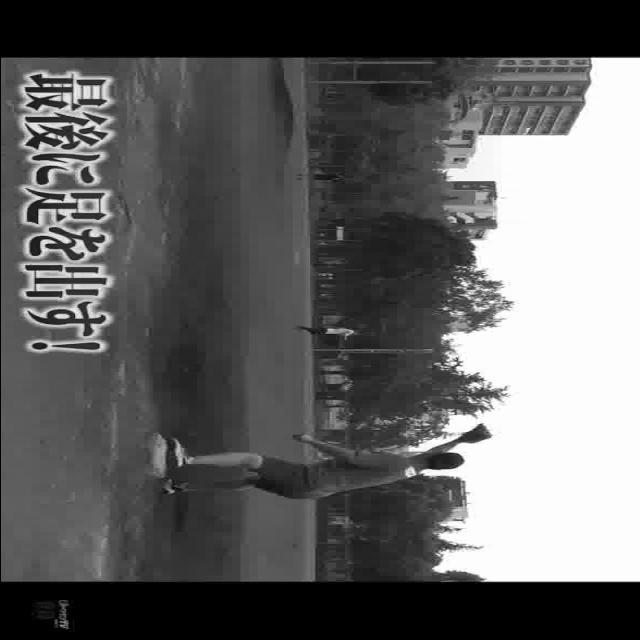base: (146, 430, 166, 478)
baseball_glove: (457, 424, 493, 444)
shoe: (162, 434, 188, 468), (163, 479, 185, 495)
